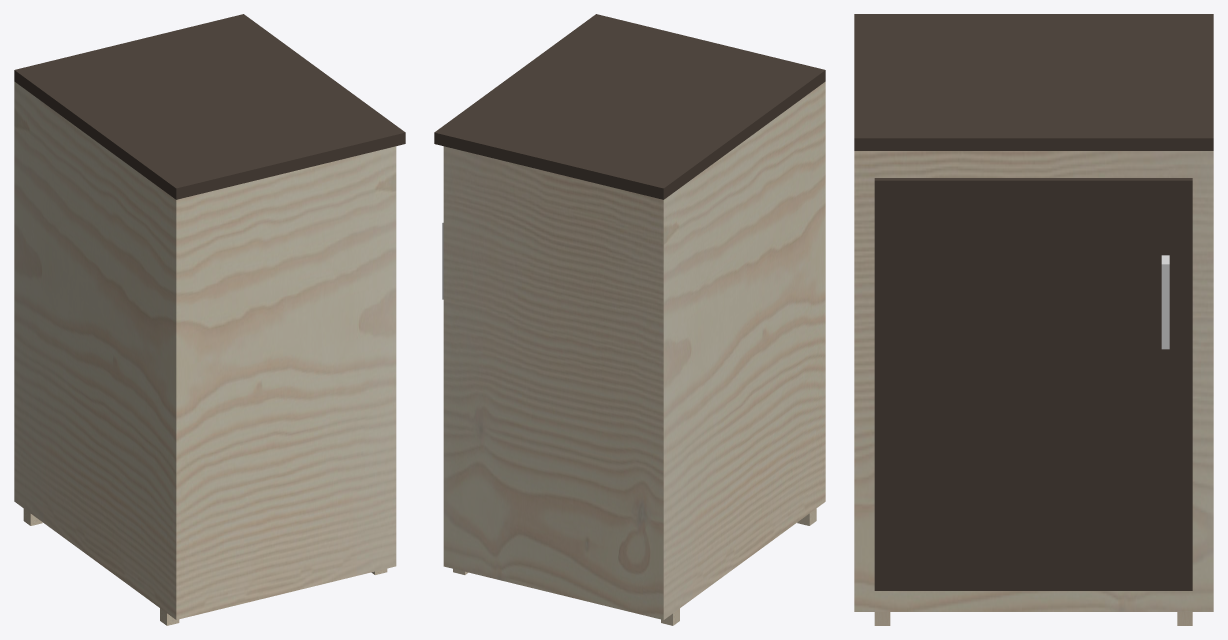
The picture shows the model from 3 angles, left to right: view 1: azimuth 30°, elevation 25°; view 2: azimuth 150°, elevation 25°; view 3: azimuth 270°, elevation 25°; orthographic projection. The views are drawn at different scales.
Visible parts, largest first — view 1: Cube, Cube.001; view 2: Cube, Cube.001; view 3: Cube.002, Cube.001, Cube, Cube.007.
Boxes of the visible parts, box(x1,y1,x2,y2) form: Cube: box(14, 81, 396, 619); Cube.001: box(14, 14, 405, 199); Cube: box(443, 81, 825, 619); Cube.001: box(434, 14, 825, 199); Cube.002: box(874, 178, 1192, 590); Cube.001: box(854, 14, 1213, 150); Cube: box(854, 151, 1213, 611); Cube.007: box(1161, 255, 1169, 349).
Size of the model in its own units: 3.76 by 6.61 by 4.37.
Materials: 4 (2 with a texture image).
